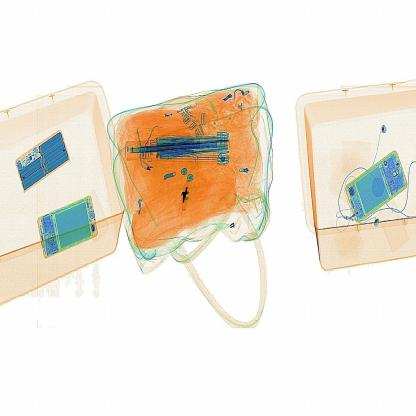gun: (176, 176, 199, 223)
